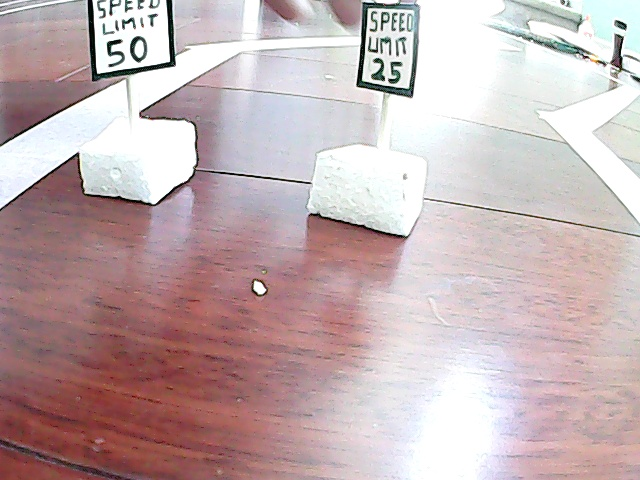speed_25: (329, 1, 429, 238)
speed_50: (85, 1, 211, 198)
